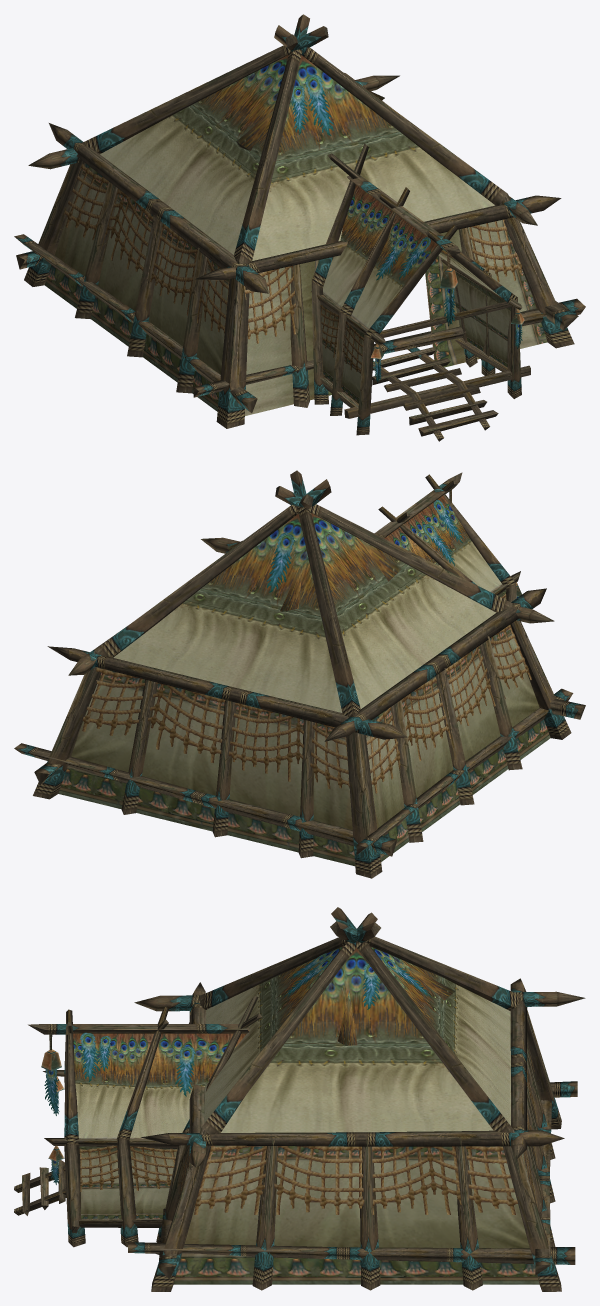
File: zhangpeng_dw_40.FBX
3 views of the same model, one above another, from view 1: azimuth 30°, elevation 25°; view 2: azimuth 150°, elevation 25°; view 3: azimuth 270°, elevation 25° (orthographic). The views are drawn at different scales.
Parts seen in each view (by area): view 1: zhangpeng_dw_40; view 2: zhangpeng_dw_40; view 3: zhangpeng_dw_40.
Part boxes in pixels (x1,y1,x2,y2): zhangpeng_dw_40: (14, 14, 585, 441); zhangpeng_dw_40: (14, 470, 585, 878); zhangpeng_dw_40: (14, 907, 585, 1291).
Size of what is drawn, in the model's own units: 1232 by 869 by 1538.
